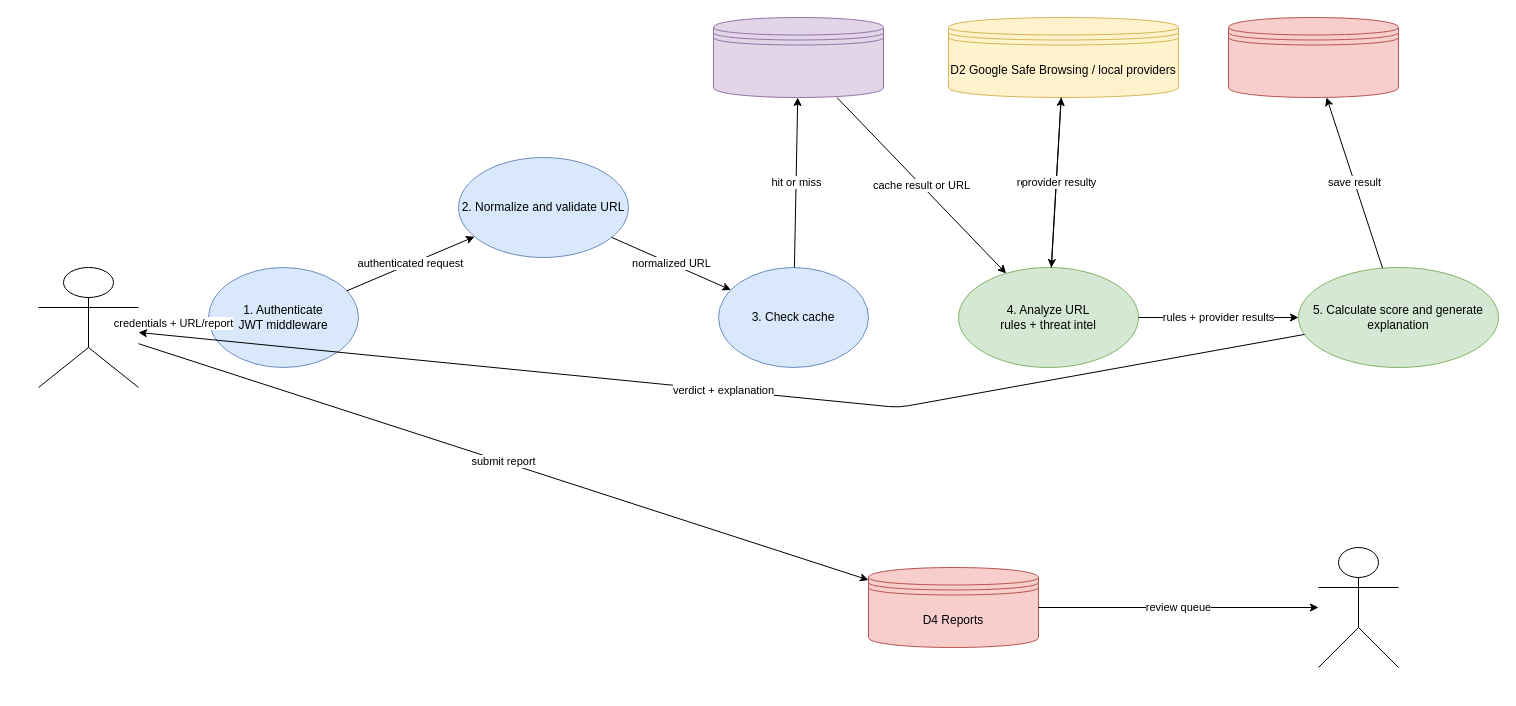
Image size: 1516x706. Some labels were removed from this diagram. Here are the shapes that lost their labels. From the top down, the box of each, then its label:
(712, 16, 884, 98): D1 ScanCache
(1228, 16, 1398, 98): D3 Scan history
(38, 266, 138, 388): User or Browser Extension
(1318, 546, 1398, 668): Admin reviewer
